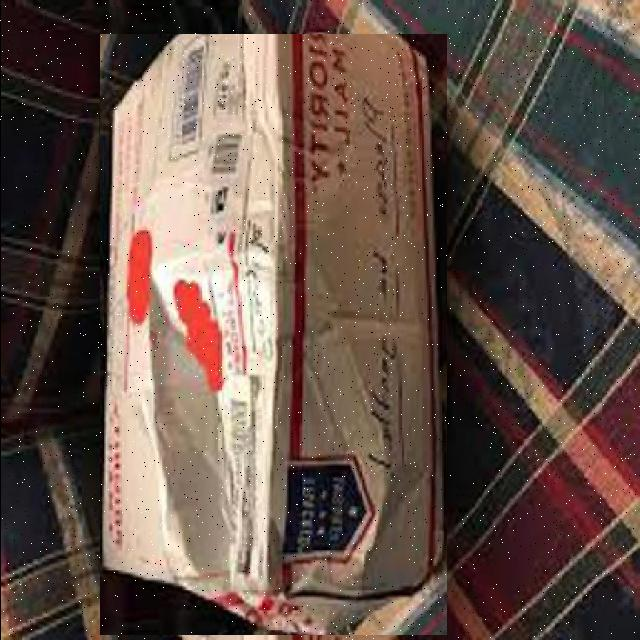defect: (99, 34, 446, 635)
